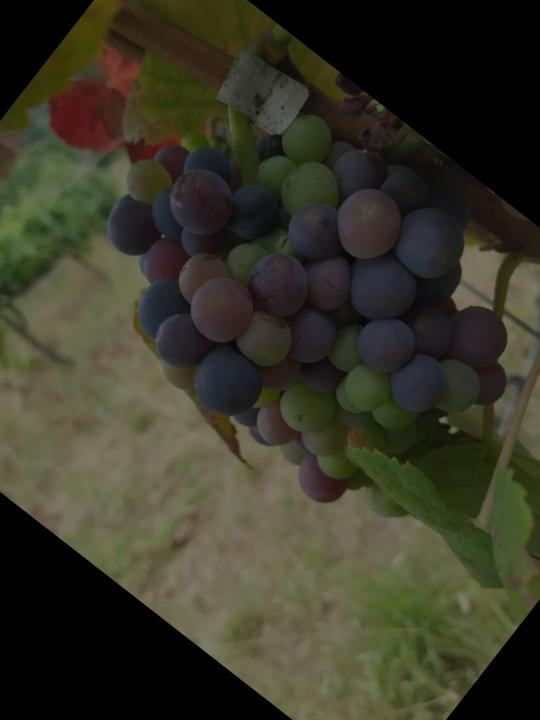grape: (33, 26, 540, 558)
